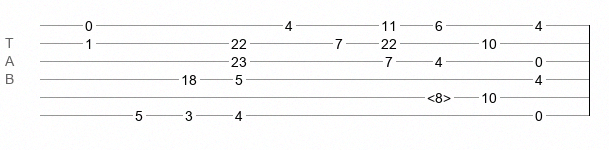0: (85, 18, 93, 28), (535, 108, 543, 118), (535, 54, 543, 64)
1: (85, 36, 93, 46)
10: (481, 90, 497, 100), (481, 36, 497, 46)
11: (381, 18, 397, 28)
18: (181, 72, 197, 82)
22: (231, 36, 247, 46), (381, 36, 397, 46)
23: (231, 54, 247, 64)
3: (185, 108, 193, 118)
4: (235, 108, 243, 118), (285, 18, 293, 28), (435, 54, 443, 64), (535, 18, 543, 28), (535, 72, 543, 82)
5: (135, 108, 143, 118), (235, 72, 243, 82)
6: (435, 18, 443, 28)
7: (335, 36, 343, 46), (385, 54, 393, 64)
harmonic: (427, 90, 451, 100)
